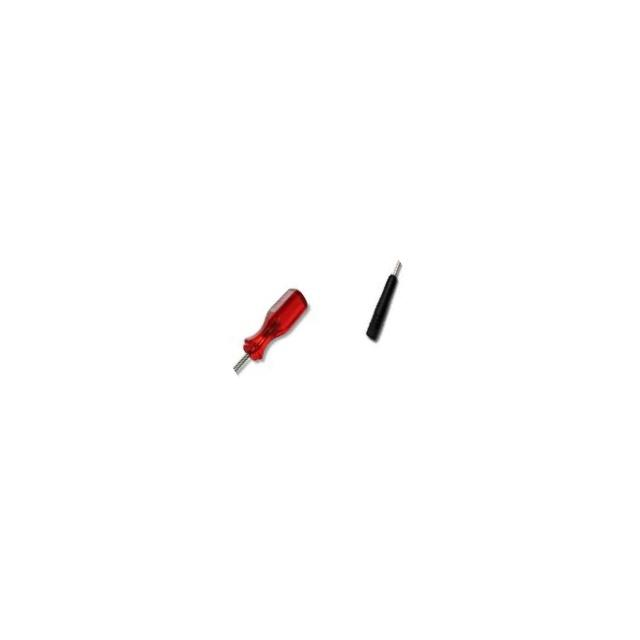screwdriver: (210, 272, 338, 388), (334, 258, 429, 349)
